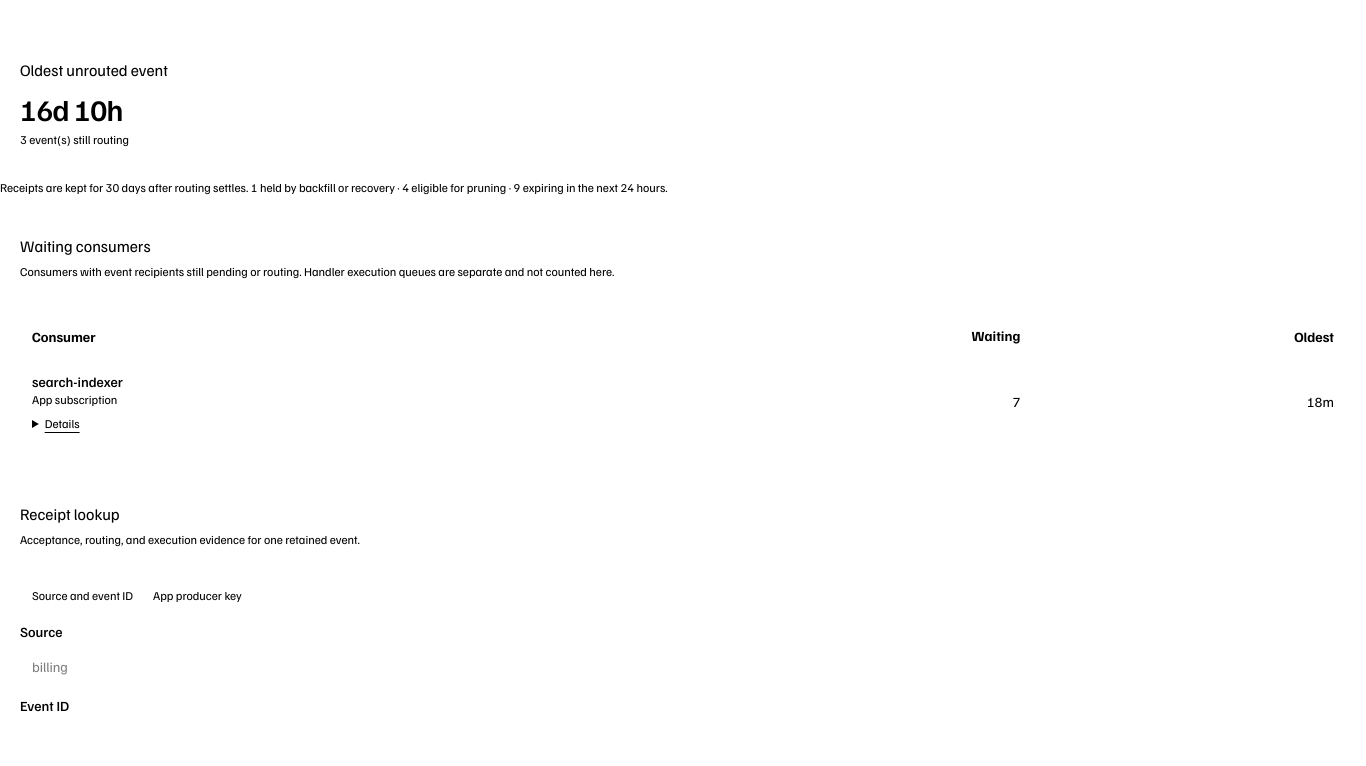
Test case: Events page › shows the routing blocker for a waiting recipient on demand
(page scrolled)
Click the text "search-indexer" at (77, 382), box [32, 373, 123, 390]
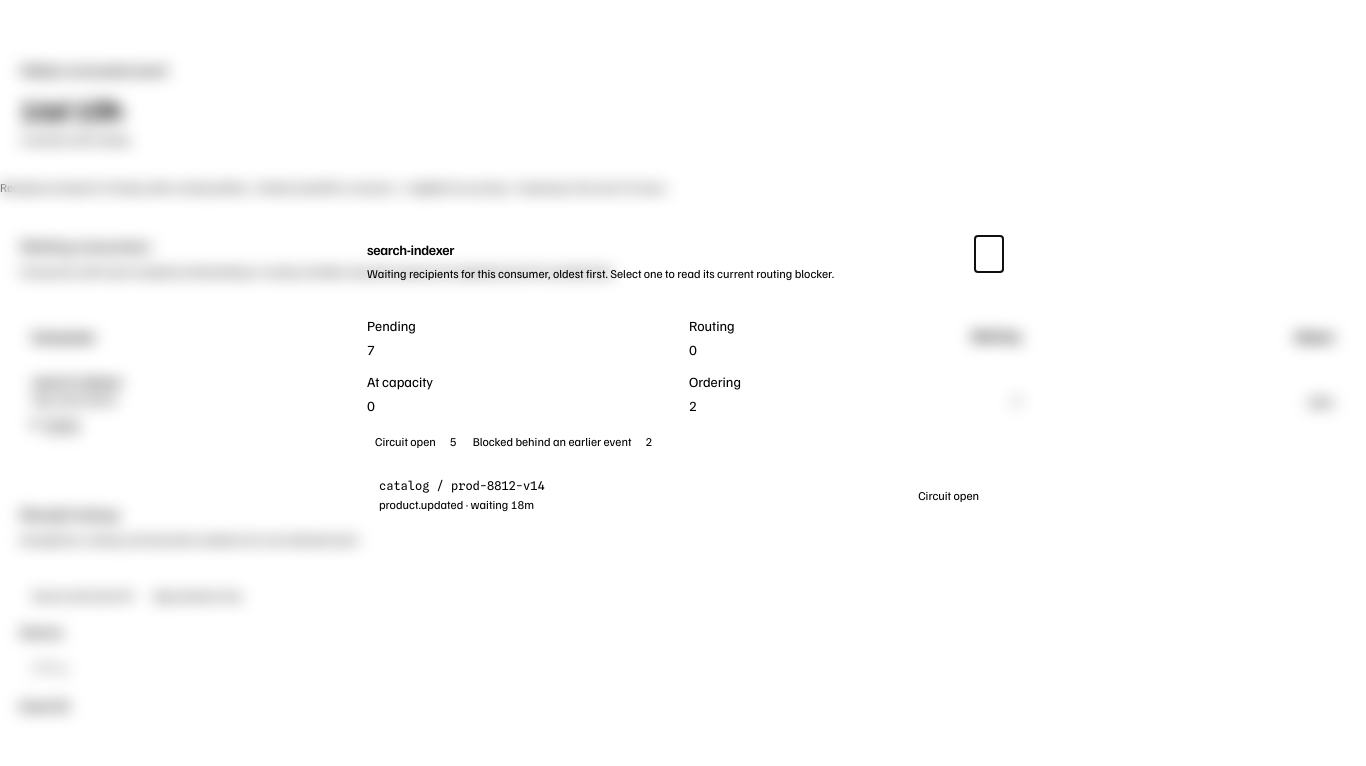
Click the button "prod-8812-v14" at (404, 485), box [379, 478, 987, 514]
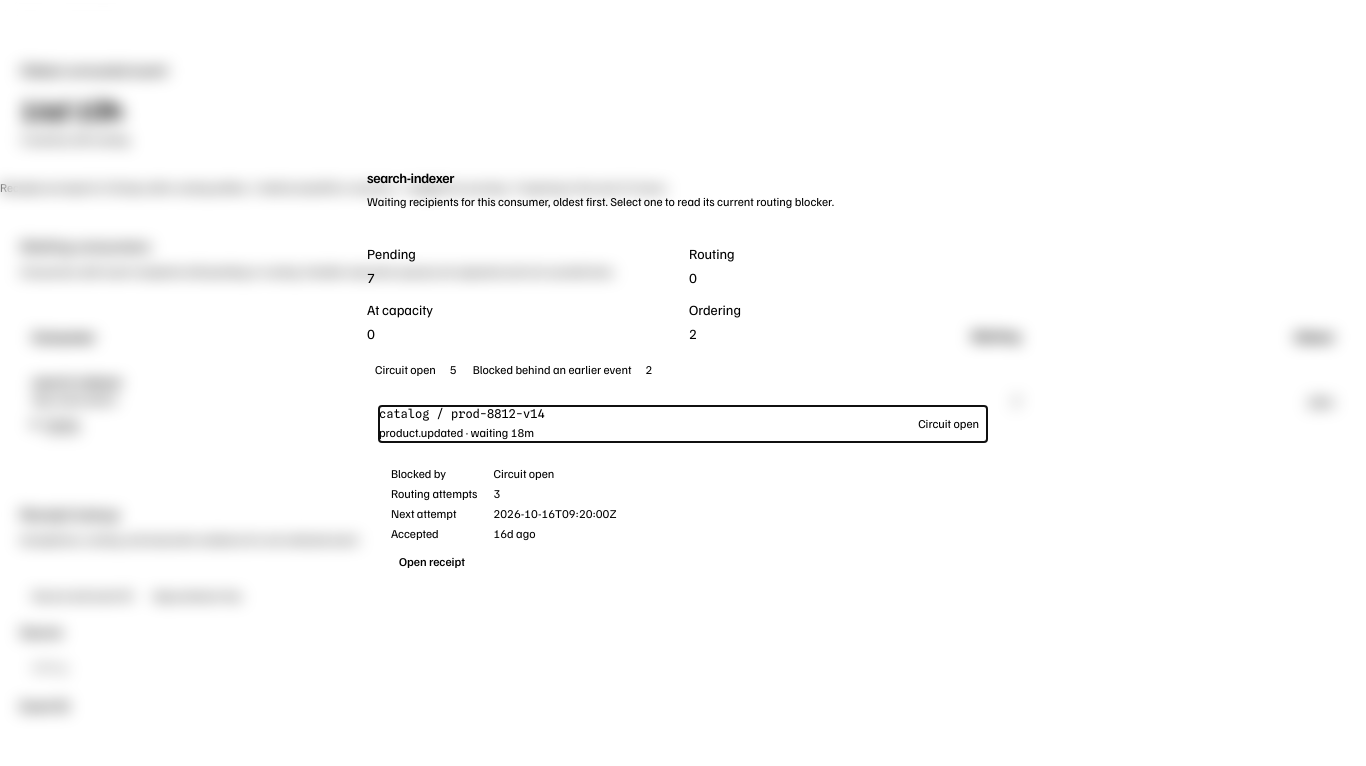
Check: the text "Blocked by" is shown, box [391, 466, 446, 481]
